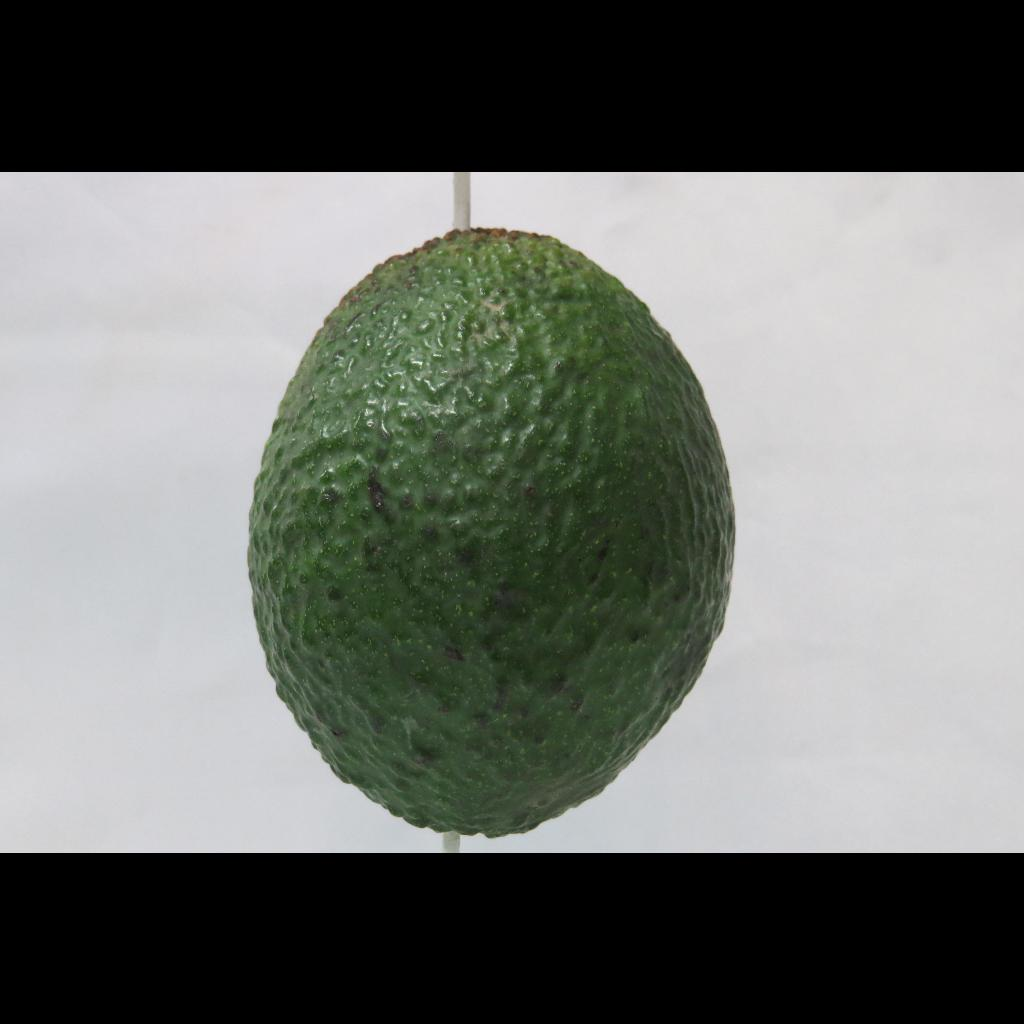fruto_sano: (230, 206, 765, 842)
